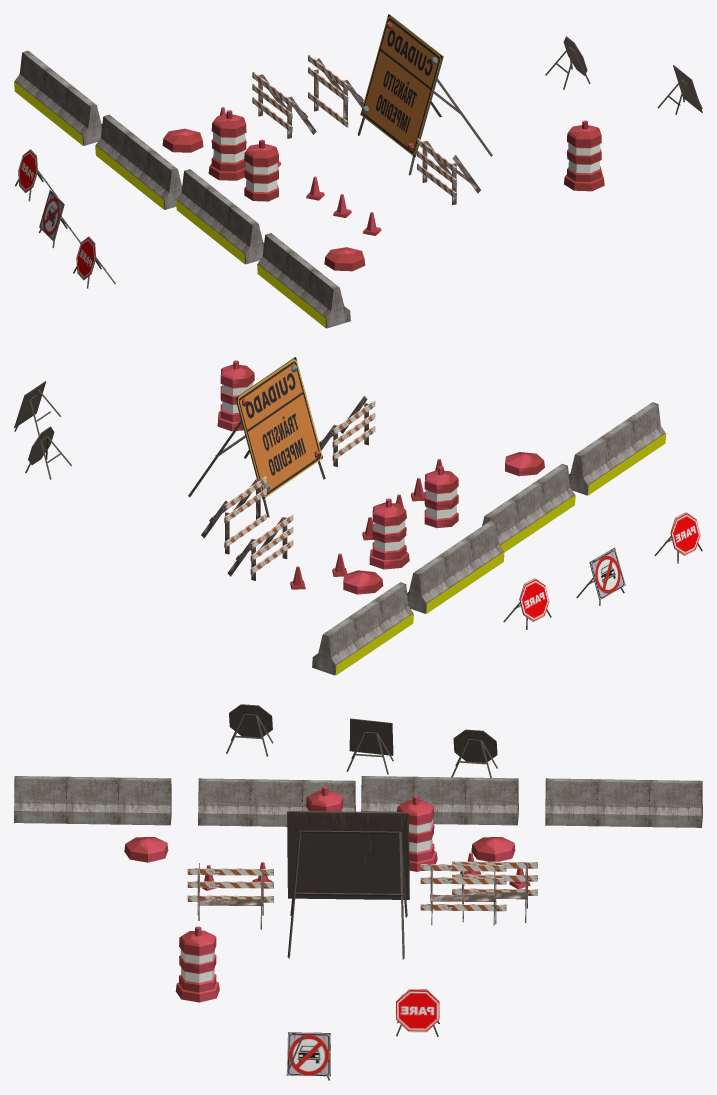
File: cuntw_roadblock04ld.obj
The picture shows the model from 3 angles, top to bottom: view 1: azimuth 30°, elevation 25°; view 2: azimuth 150°, elevation 25°; view 3: azimuth 270°, elevation 25°; orthographic projection. The views are drawn at different scales.
Visible parts, largest first — view 1: cuntw_roadblock04ld; view 2: cuntw_roadblock04ld; view 3: cuntw_roadblock04ld.
Part boxes in pixels (left/top/right/bottom): cuntw_roadblock04ld: left=14, top=14, right=702, bottom=328; cuntw_roadblock04ld: left=14, top=357, right=702, bottom=675; cuntw_roadblock04ld: left=14, top=704, right=702, bottom=1080.
Bounding box in the file's own units: 24.25 × 4.57 × 20.96.
4 materials, 4 textured.
